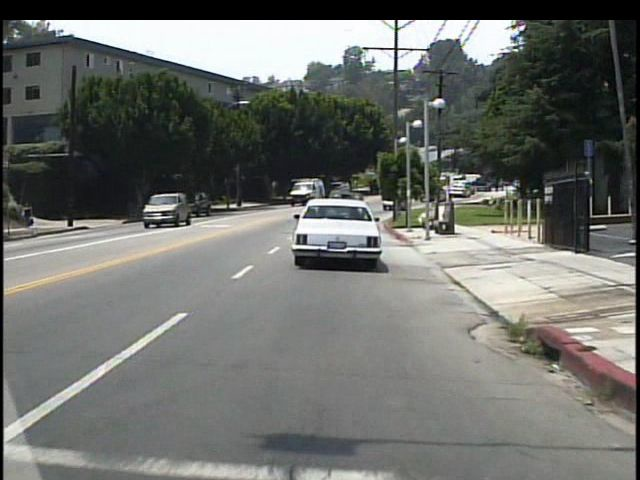person: (22, 198, 36, 228)
